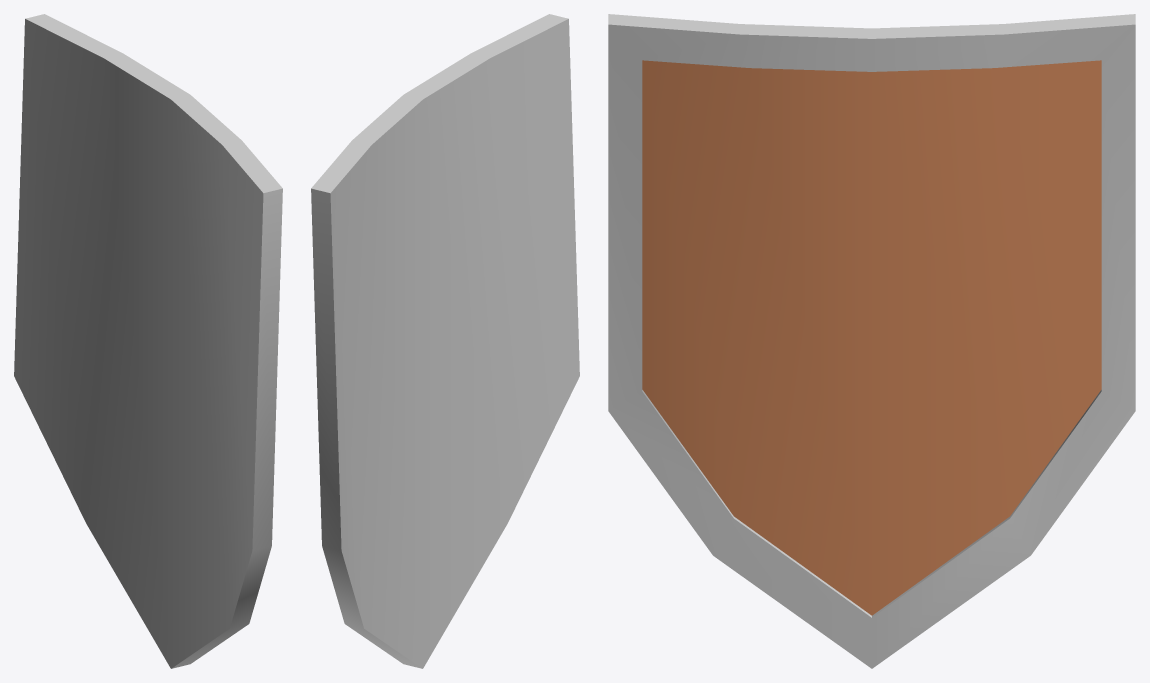
File: Shield right size.fbx
3 views of the same model, side by side, from view 1: azimuth 30°, elevation 25°; view 2: azimuth 150°, elevation 25°; view 3: azimuth 270°, elevation 25° (orthographic). The views are drawn at different scales.
Visible parts, largest first — view 1: Cube.001; view 2: Cube.001; view 3: Cube.001.
Part boxes in pixels (x1,y1,x2,y2): Cube.001: (14, 14, 282, 668); Cube.001: (311, 14, 579, 668); Cube.001: (608, 14, 1135, 668).
Bounding box in the file's own units: 8.59 × 81.64 × 61.95.
